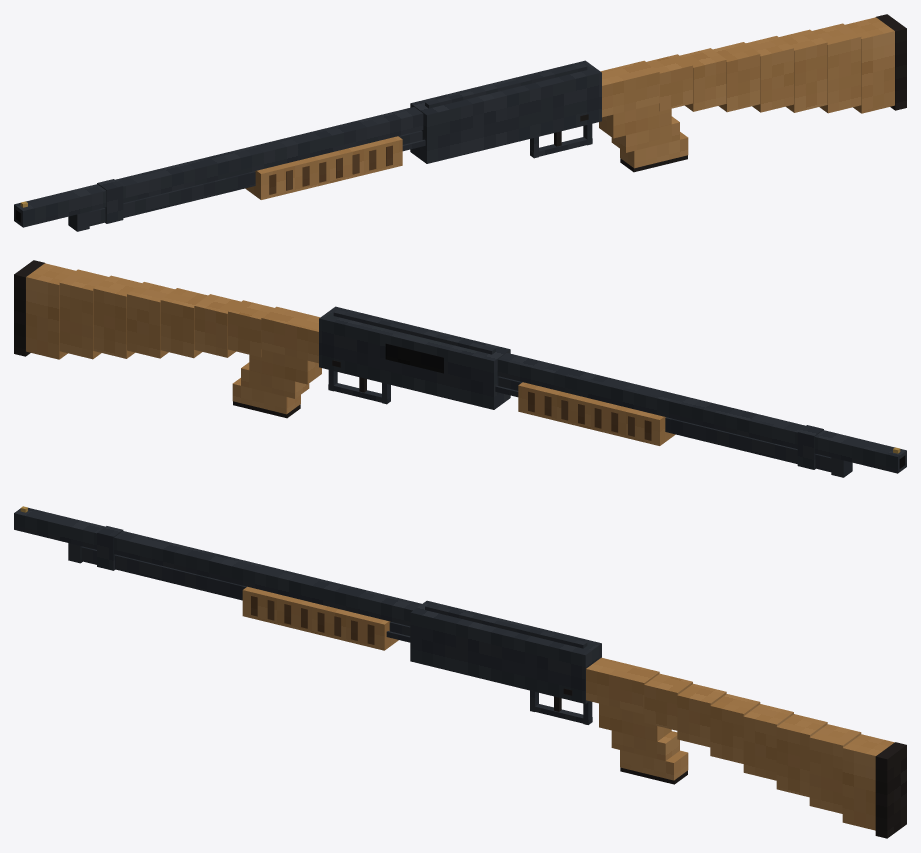
File: Angara12.glb
3 views of the same model, one above another, from view 1: azimuth 30°, elevation 25°; view 2: azimuth 150°, elevation 25°; view 3: azimuth 330°, elevation 25° (orthographic).
Visible parts, largest first — view 1: Receiver, Barrel, Pump body, Buttstock step 6, Buttstock step 5, Buttstock step 4, Stock wrist, Magazine tube, Buttstock step 3, Buttstock step 2, Buttstock step 1, Buttstock step 0 (+7 smaller); view 2: Barrel, Receiver, Pump body, Buttstock step 6, Buttstock step 5, Buttstock step 4, Stock wrist, Magazine tube, Buttstock step 3, Buttstock step 2, Buttstock step 1, Buttstock step 0 (+8 smaller); view 3: Receiver, Barrel, Pump body, Buttstock step 6, Buttstock step 5, Stock wrist, Butt pad, Buttstock step 4, Buttstock step 3, Magazine tube, Buttstock step 2, Buttstock step 1 (+6 smaller).
Boxes of the visible parts, <box> form: Receiver: <box>410,60,601,163</box>; Barrel: <box>14,107,423,227</box>; Pump body: <box>245,136,402,199</box>; Buttstock step 6: <box>845,17,894,113</box>; Buttstock step 5: <box>812,23,861,113</box>; Buttstock step 4: <box>779,29,827,112</box>; Stock wrist: <box>600,60,659,117</box>; Magazine tube: <box>89,130,422,226</box>; Buttstock step 3: <box>746,36,793,112</box>; Buttstock step 2: <box>713,42,760,112</box>; Buttstock step 1: <box>680,48,726,111</box>; Buttstock step 0: <box>646,54,692,111</box>; Barrel: <box>497,353,906,473</box>; Receiver: <box>319,306,510,409</box>; Pump body: <box>518,382,675,445</box>; Buttstock step 6: <box>26,263,75,359</box>; Buttstock step 5: <box>59,269,108,359</box>; Buttstock step 4: <box>93,275,141,358</box>; Stock wrist: <box>261,306,320,363</box>; Magazine tube: <box>498,376,831,472</box>; Buttstock step 3: <box>127,282,174,358</box>; Buttstock step 2: <box>160,288,207,358</box>; Buttstock step 1: <box>194,294,240,357</box>; Buttstock step 0: <box>228,300,274,357</box>; Receiver: <box>410,600,601,703</box>; Barrel: <box>14,507,421,626</box>; Pump body: <box>242,586,398,650</box>; Buttstock step 6: <box>842,734,894,830</box>; Buttstock step 5: <box>809,724,861,813</box>; Stock wrist: <box>586,657,659,714</box>; Butt pad: <box>875,742,906,838</box>; Buttstock step 4: <box>776,714,827,797</box>; Buttstock step 3: <box>743,704,793,780</box>; Magazine tube: <box>81,546,410,635</box>; Buttstock step 2: <box>710,694,760,763</box>; Buttstock step 1: <box>677,683,726,747</box>.
Size of the model in its own units: 1.05 by 0.129 by 0.041.
Materials: 1 (1 with a texture image).
